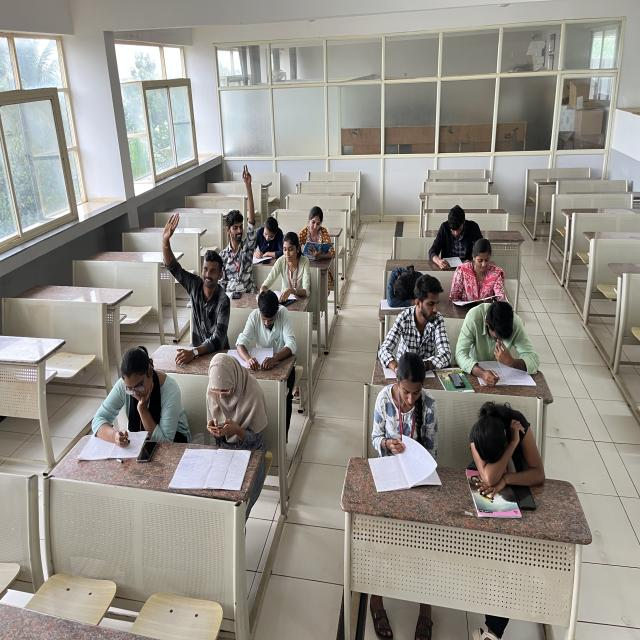Hand Rising: (156, 212, 228, 339), (219, 163, 259, 278)
Reading: (364, 352, 440, 480), (451, 240, 515, 312), (426, 205, 487, 272), (238, 293, 293, 366), (299, 205, 340, 261)
Sleeping: (462, 398, 552, 490), (381, 261, 431, 306)
Using Phone: (197, 353, 260, 443)
Writing: (90, 345, 178, 454), (250, 218, 284, 265)
